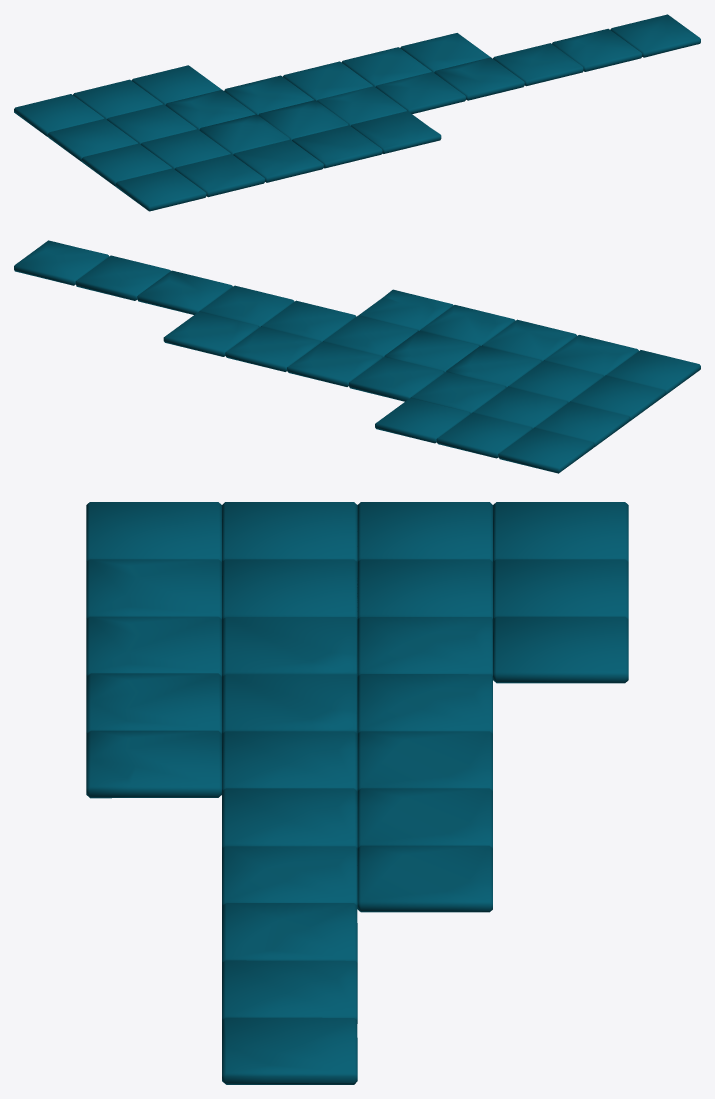
The model's file is GroundModules_Thick.fbx.
3 views of the same model, one above another, from view 1: azimuth 30°, elevation 25°; view 2: azimuth 150°, elevation 25°; view 3: azimuth 270°, elevation 25° (orthographic). The views are drawn at different scales.
Visible parts, largest first — view 1: Trees_Half, Crystal_Corner_TreeGrass_Mirrored, Crystal_Corner_TreeGrass, Crystal_Corner_GrassTree, Crystal_Side_Grass, Crystal_Side_Trees, Crystal_Side_GrassTree, Crystal_Corner_GrassTree_Mirrored, Crystal_Corner_Grass, Crystal_Side_GrassTree_Mirrored, Trees_InCorner, Grass (+13 smaller); view 2: Grass, Crystal_Corner_TreeGrassTree, Crystal_Corner_GrassTree, Trees, Crystal_Corner_GrassTree_Mirrored, Crystal_OnPass_Tree, Crystal_Full, Crystal_OnPass_TreeGrass, Crystal_OnPass_Grass, Crystal_Corner_TreeGrass, Trees_GrassPass, Trees_InCorner (+13 smaller); view 3: Crystal_Side_GrassTree_Mirrored, Crystal_Full, Crystal_OnPass_TreeGrass, Crystal_Corner_GrassTree, Crystal_Corner_Grass, Crystal_Side_Trees, Crystal_InCorner_Grass, Crystal_InCorner_Tree, Crystal_Corner_TreeGrassTree, Trees, Crystal_Corner_Tree, Crystal_Side_Grass (+13 smaller).
Boxes of the visible parts, x1,y1,x2,y2 form: Trees_Half: (115, 168, 206, 211); Crystal_Corner_TreeGrass_Mirrored: (434, 57, 524, 100); Crystal_Corner_TreeGrass: (493, 43, 583, 86); Crystal_Corner_GrassTree: (610, 14, 700, 57); Crystal_Side_Grass: (174, 154, 265, 197); Crystal_Side_Trees: (233, 139, 323, 182); Crystal_Side_GrassTree: (292, 125, 382, 168); Crystal_Corner_GrassTree_Mirrored: (552, 28, 642, 71); Crystal_Corner_Grass: (375, 72, 466, 114); Crystal_Side_GrassTree_Mirrored: (351, 111, 441, 153); Trees_InCorner: (81, 143, 172, 186); Grass: (14, 94, 104, 136); Grass: (498, 428, 593, 473); Crystal_Corner_TreeGrassTree: (349, 357, 443, 401); Crystal_Corner_GrassTree: (14, 240, 109, 285); Trees: (436, 413, 531, 458); Crystal_Corner_GrassTree_Mirrored: (75, 255, 170, 300); Crystal_OnPass_Tree: (225, 327, 320, 371); Crystal_Full: (375, 398, 469, 443); Crystal_OnPass_TreeGrass: (163, 311, 258, 356); Crystal_OnPass_Grass: (287, 341, 382, 386); Crystal_Corner_TreeGrass: (137, 270, 232, 314); Trees_GrassPass: (534, 402, 629, 447); Trees_InCorner: (570, 376, 665, 420); Crystal_Side_GrassTree_Mirrored: (86, 730, 221, 798); Crystal_Full: (493, 616, 628, 683); Crystal_OnPass_TreeGrass: (357, 845, 492, 912); Crystal_Corner_GrassTree: (222, 1017, 357, 1084); Crystal_Corner_Grass: (222, 788, 357, 848); Crystal_Side_Trees: (86, 616, 221, 676); Crystal_InCorner_Grass: (222, 674, 357, 733); Crystal_InCorner_Tree: (222, 617, 357, 676); Crystal_Corner_TreeGrassTree: (357, 674, 492, 733); Trees: (493, 559, 628, 619); Crystal_Corner_Tree: (222, 731, 357, 791); Crystal_Side_Grass: (86, 559, 221, 619).
Bounding box in the file's own units: 2000 × 20 × 800.
